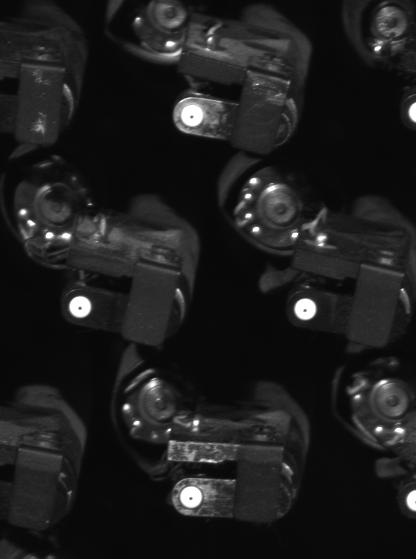fiber: (177, 100, 209, 133), (291, 293, 322, 327), (66, 292, 97, 324), (175, 483, 207, 513), (402, 482, 416, 520)
